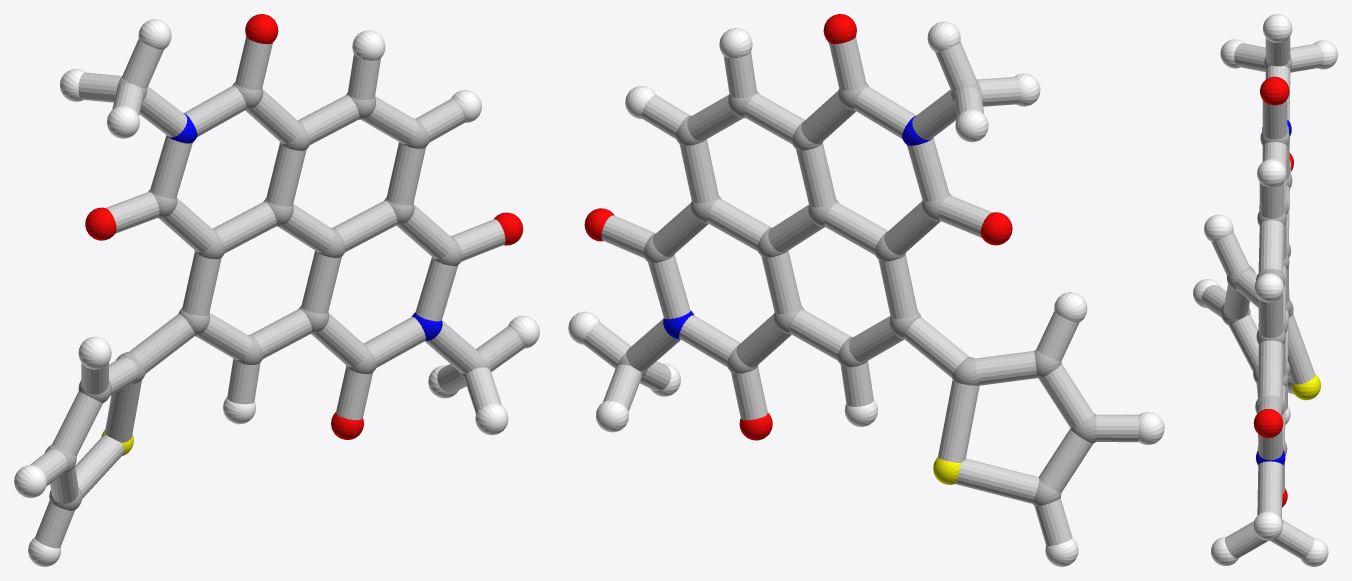
Rendered from Dimethyl_Naphthalene_Dicarboximide_Phi_20_Theta_330_Thiophene.glb.
3 views of the same model, side by side, from view 1: azimuth 30°, elevation 25°; view 2: azimuth 150°, elevation 25°; view 3: azimuth 270°, elevation 25° (orthographic). The views are drawn at different scales.
Visible parts, largest first — view 1: grp14119, grp7241, grp1, grp12309, grp11585; view 2: grp14119, grp7241, grp1, grp12309, grp11585; view 3: grp14119, grp7241, grp1, grp12309, grp13757, grp11585.
Boxes of the visible parts, x1,y1,x2,y2 form: grp14119: (30,36,524,548); grp7241: (14,19,539,566); grp1: (45,77,489,510); grp12309: (85,14,523,439); grp11585: (167,113,442,340); grp14119: (583,36,1139,546); grp7241: (568,21,1164,566); grp1: (617,81,1096,506); grp12309: (584,14,1012,440); grp11585: (663,116,932,339); grp14119: (1201,37,1323,559); grp7241: (1193,14,1337,566); grp1: (1221,56,1293,540); grp12309: (1253,76,1293,507); grp13757: (1291,374,1320,400); grp11585: (1256,120,1291,465).
Bounding box in the file's own units: 11.6 × 10.27 × 2.94.
